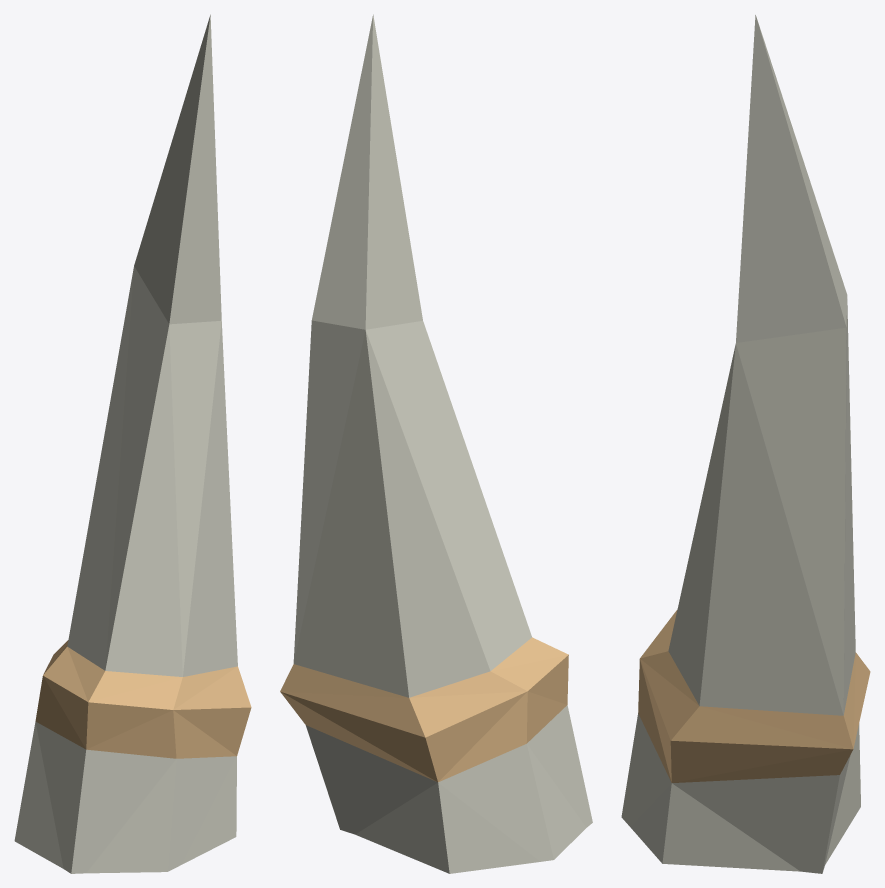
Rendered from Prop_Bone_Horn_Tusk_Rope_Tied_01.FBX.
3 views of the same model, side by side, from view 1: azimuth 30°, elevation 25°; view 2: azimuth 150°, elevation 25°; view 3: azimuth 270°, elevation 25° (orthographic). The views are drawn at different scales.
Visible parts, largest first — view 1: Prop_Bone_Horn_Tusk_Rope_Tied_01; view 2: Prop_Bone_Horn_Tusk_Rope_Tied_01; view 3: Prop_Bone_Horn_Tusk_Rope_Tied_01.
Part boxes in pixels (x1,y1,x2,y2): Prop_Bone_Horn_Tusk_Rope_Tied_01: [14, 14, 251, 873]; Prop_Bone_Horn_Tusk_Rope_Tied_01: [280, 14, 592, 873]; Prop_Bone_Horn_Tusk_Rope_Tied_01: [621, 15, 870, 873].
Bounding box in the file's own units: 1505 × 4813 × 1265.
